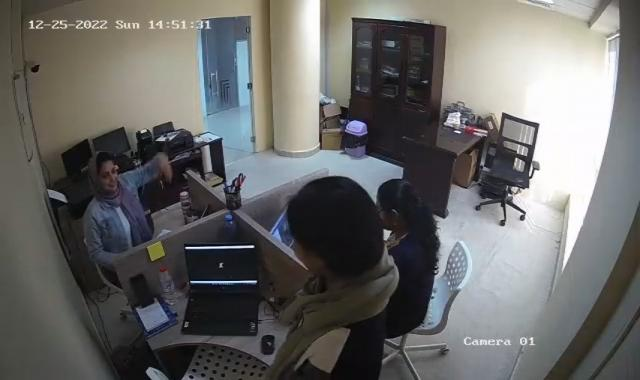no_hairnet: (290, 177, 379, 266), (380, 177, 422, 227), (88, 152, 120, 194)
